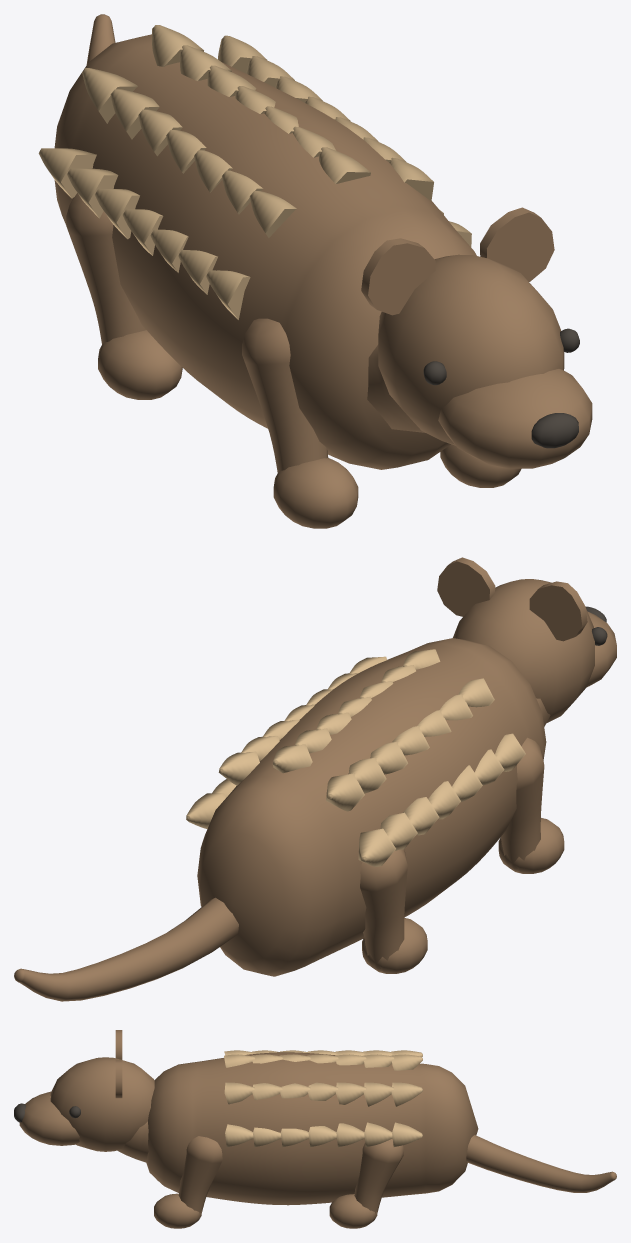
File: rainforest-and-jungle-fauna-pangolin-f87d921d__21665.glb
3 views of the same model, one above another, from view 1: azimuth 30°, elevation 25°; view 2: azimuth 150°, elevation 25°; view 3: azimuth 270°, elevation 25° (orthographic). The views are drawn at different scales.
Parts seen in each view (by area): view 1: pangolin; view 2: pangolin; view 3: pangolin.
Boxes of the visible parts, bbox=[...] form: pangolin: bbox=[38, 14, 592, 528]; pangolin: bbox=[14, 557, 616, 1001]; pangolin: bbox=[14, 1030, 616, 1228].
Bounding box in the file's own units: 0.207 × 0.2339 × 0.8.
